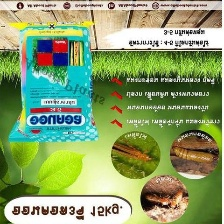insecticide: (5, 18, 100, 144)
